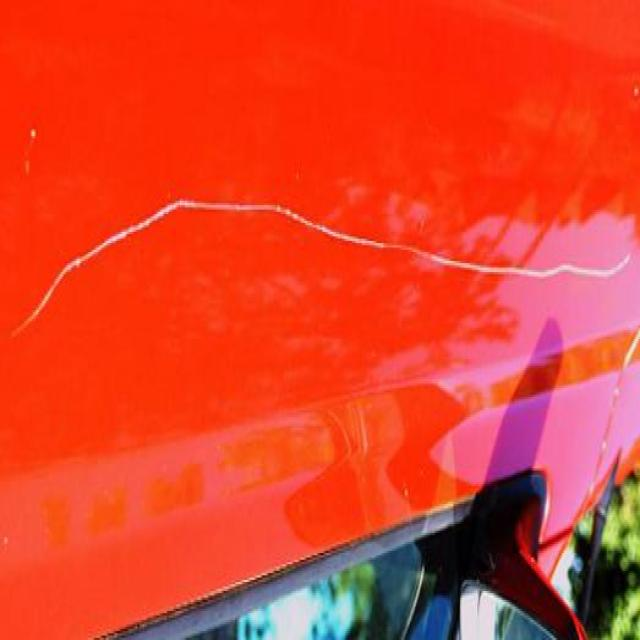scratch: (8, 188, 640, 335)
